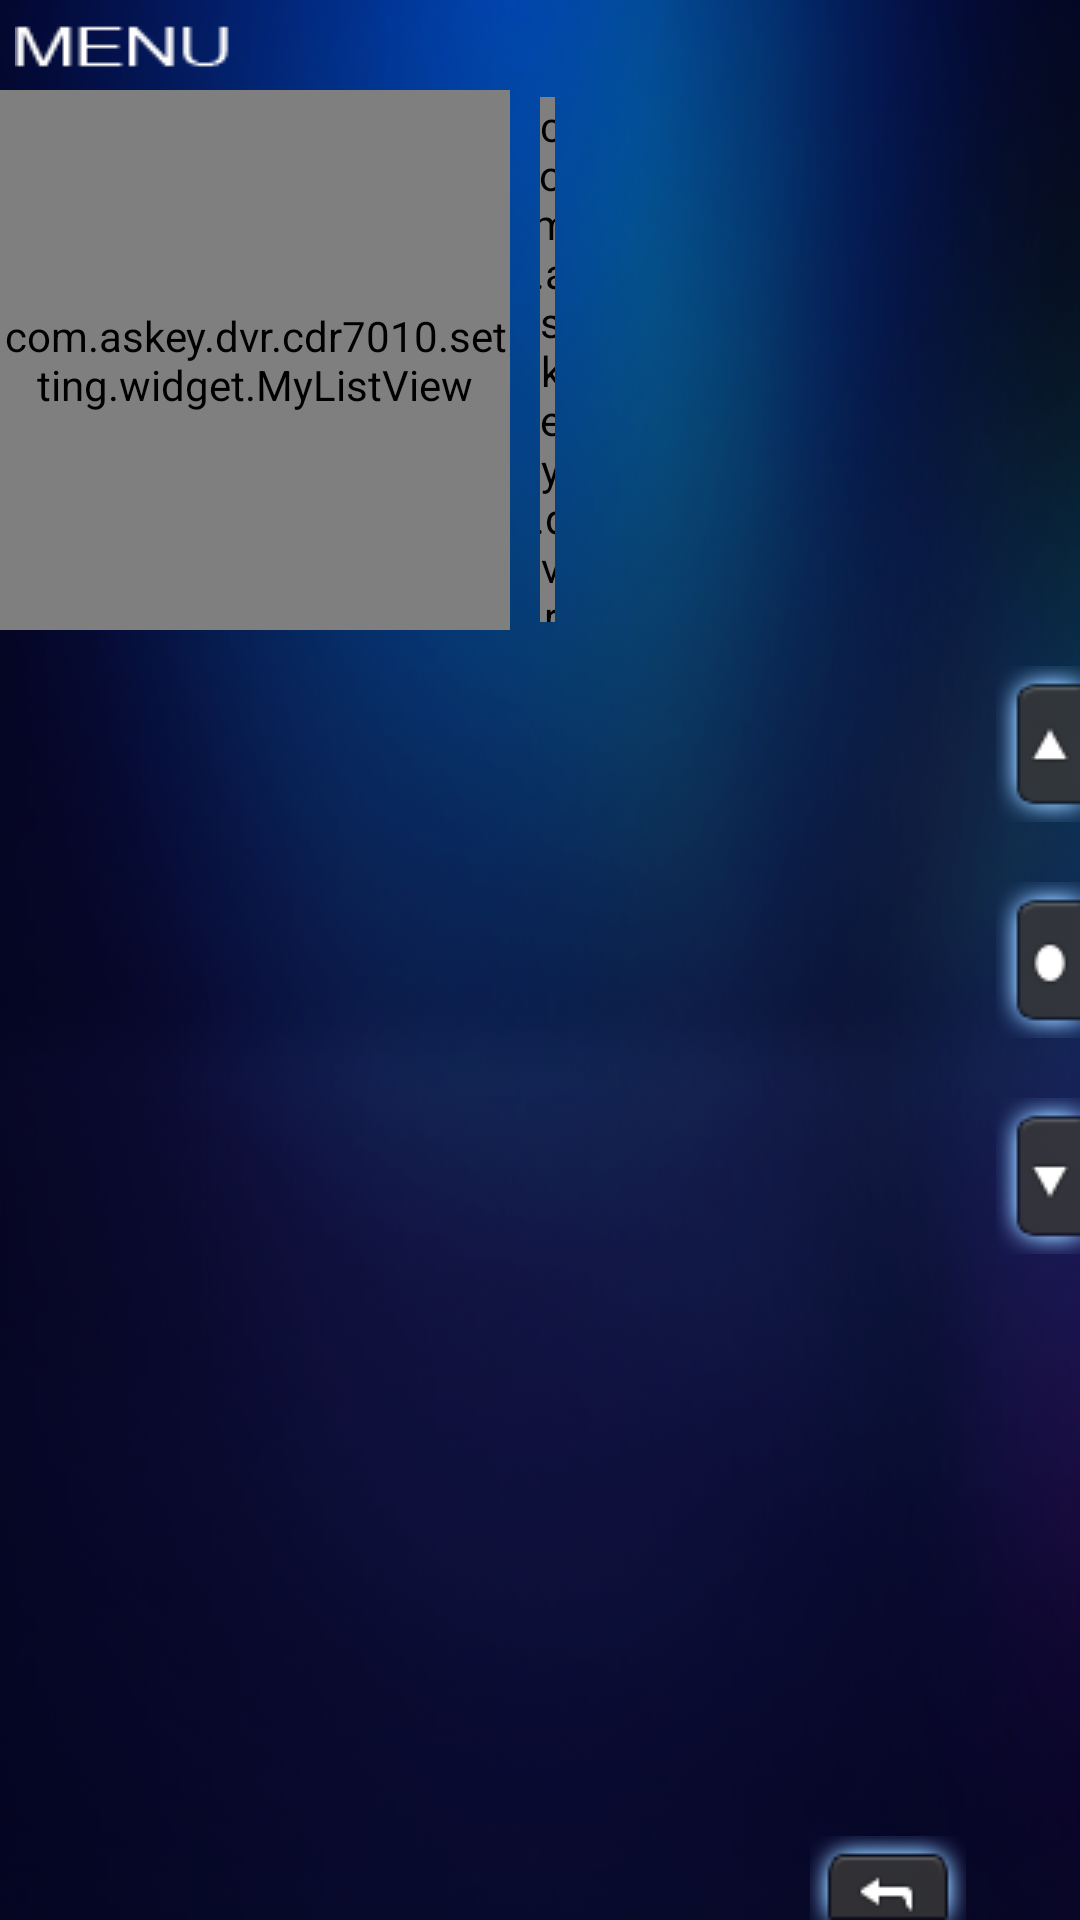

Icons on this 1080*1920 Android screen, each with the point to tap as [x,y]:
tag menu main back: [887,1878]
tag menu main enter: [1040,960]
tag menu main movedown: [1040,1176]
tag menu main moveup: [1040,745]
